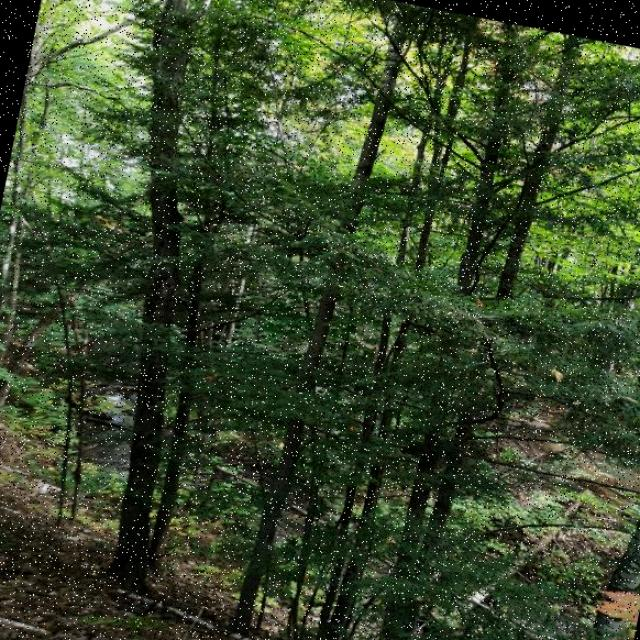fallen_object: (135, 431, 637, 640), (362, 440, 616, 640), (0, 544, 361, 640)
